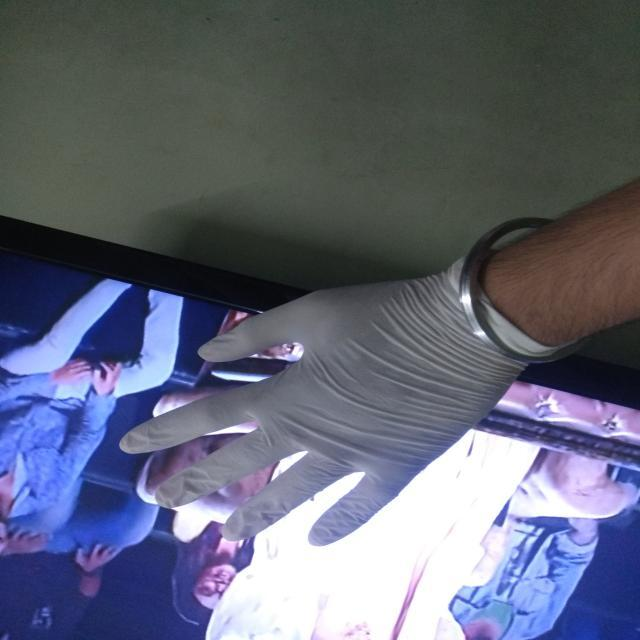gloved_hand: (116, 244, 565, 554)
